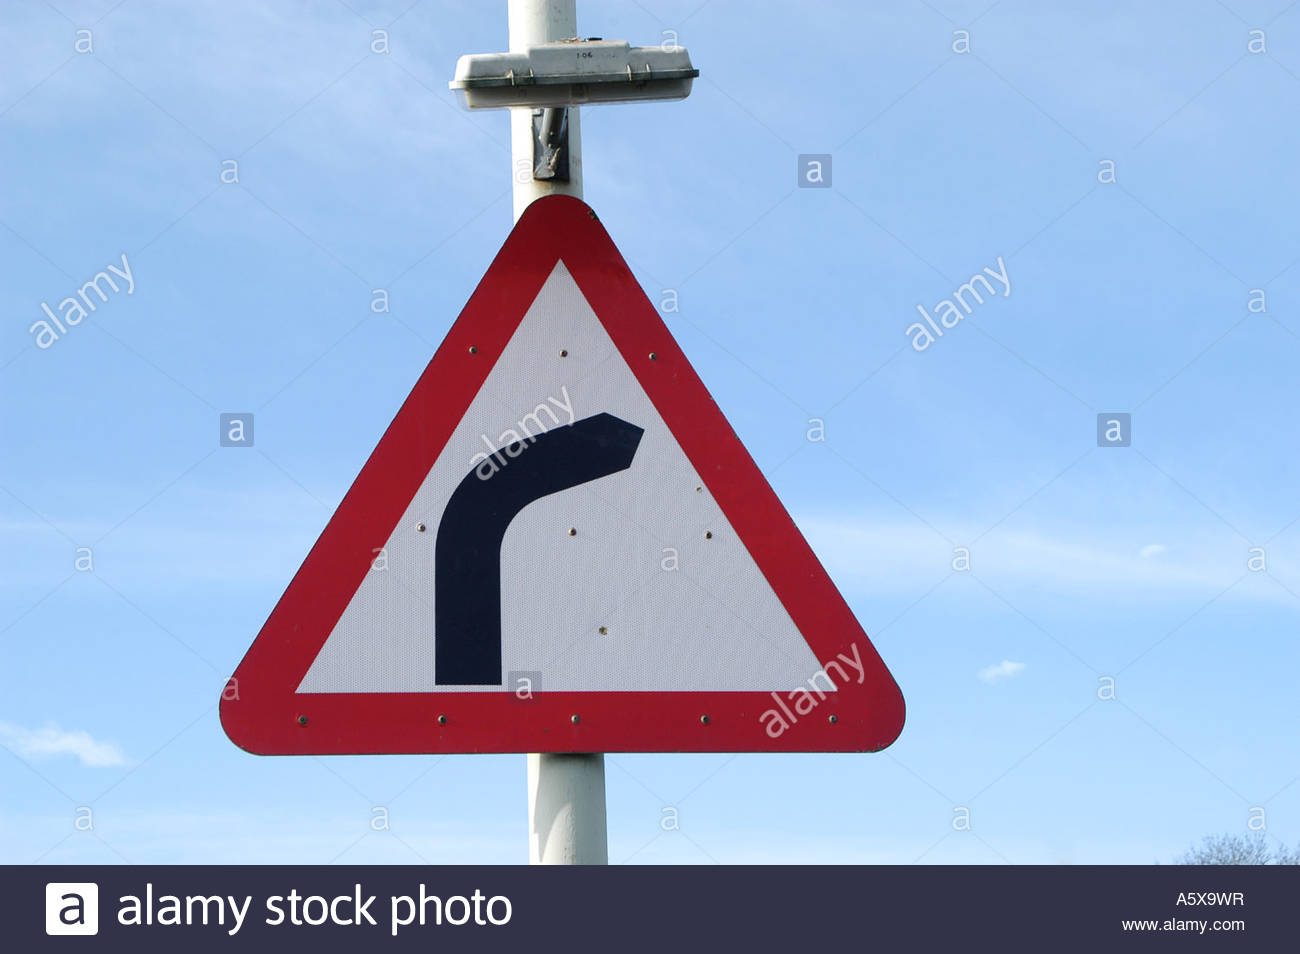Bend_to_right: (207, 187, 910, 768)
